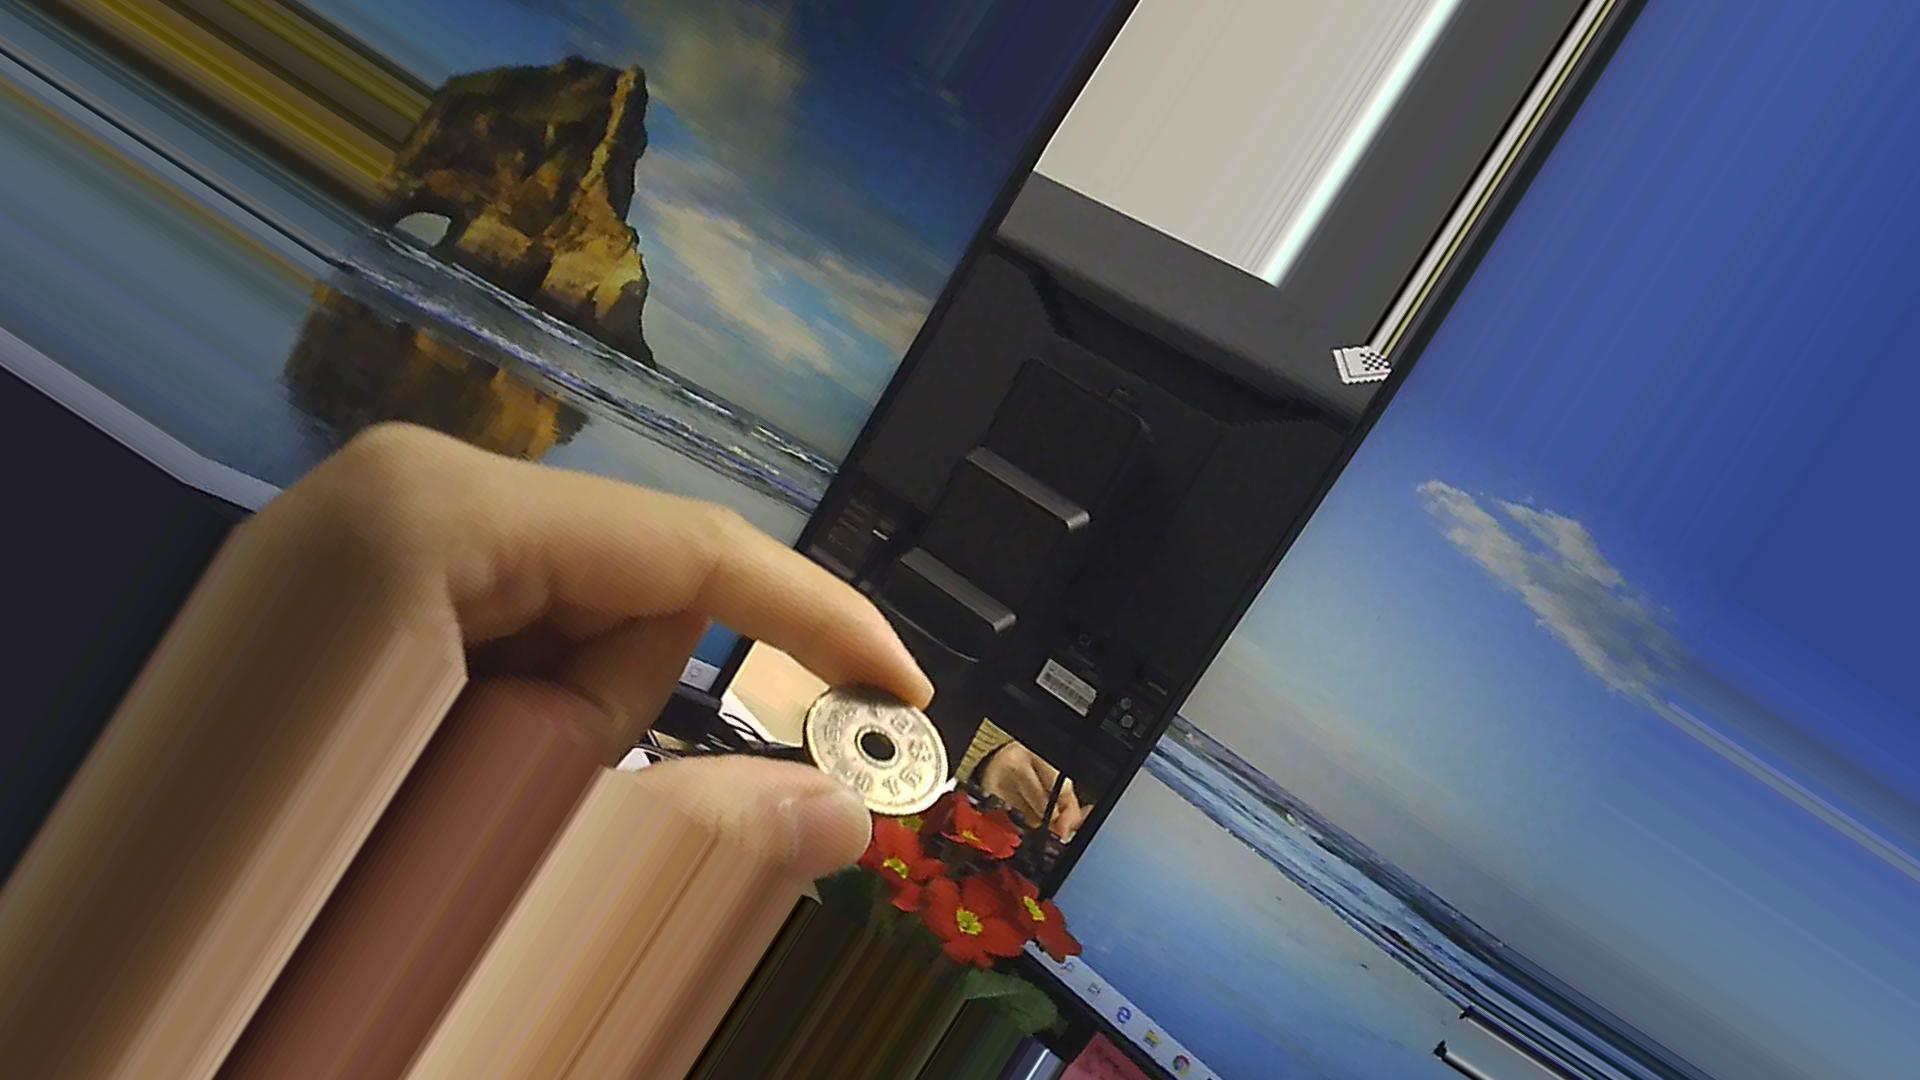5 Yen: (793, 669, 945, 837)
